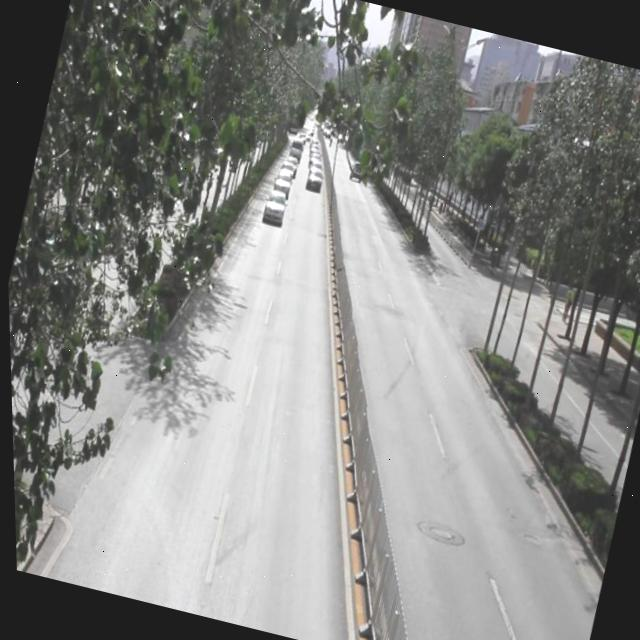car: (260, 186, 287, 224), (270, 166, 293, 194)
